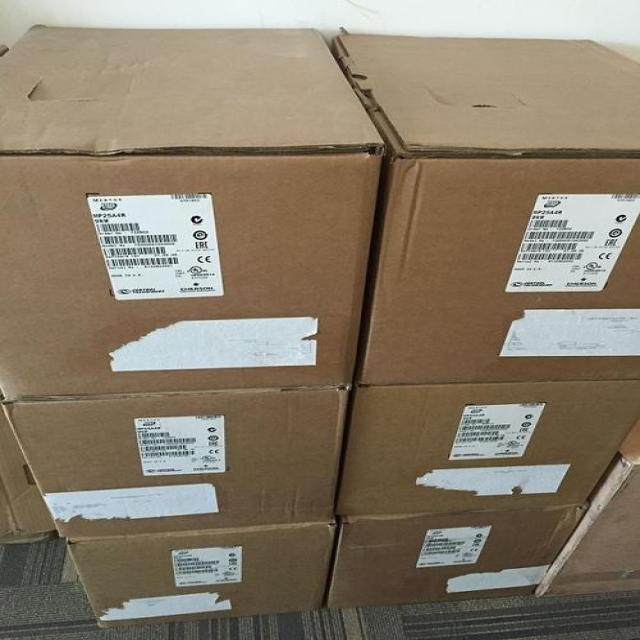box: (1, 26, 387, 400), (330, 34, 639, 384), (0, 386, 351, 537), (334, 380, 639, 516), (67, 522, 333, 629), (325, 504, 589, 611)
